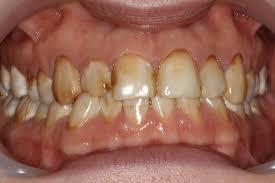Calculus: (156, 49, 205, 100), (195, 55, 235, 100), (61, 94, 102, 129)
Discoloration: (111, 50, 159, 99), (76, 53, 116, 95), (51, 56, 84, 99), (35, 73, 61, 104)
